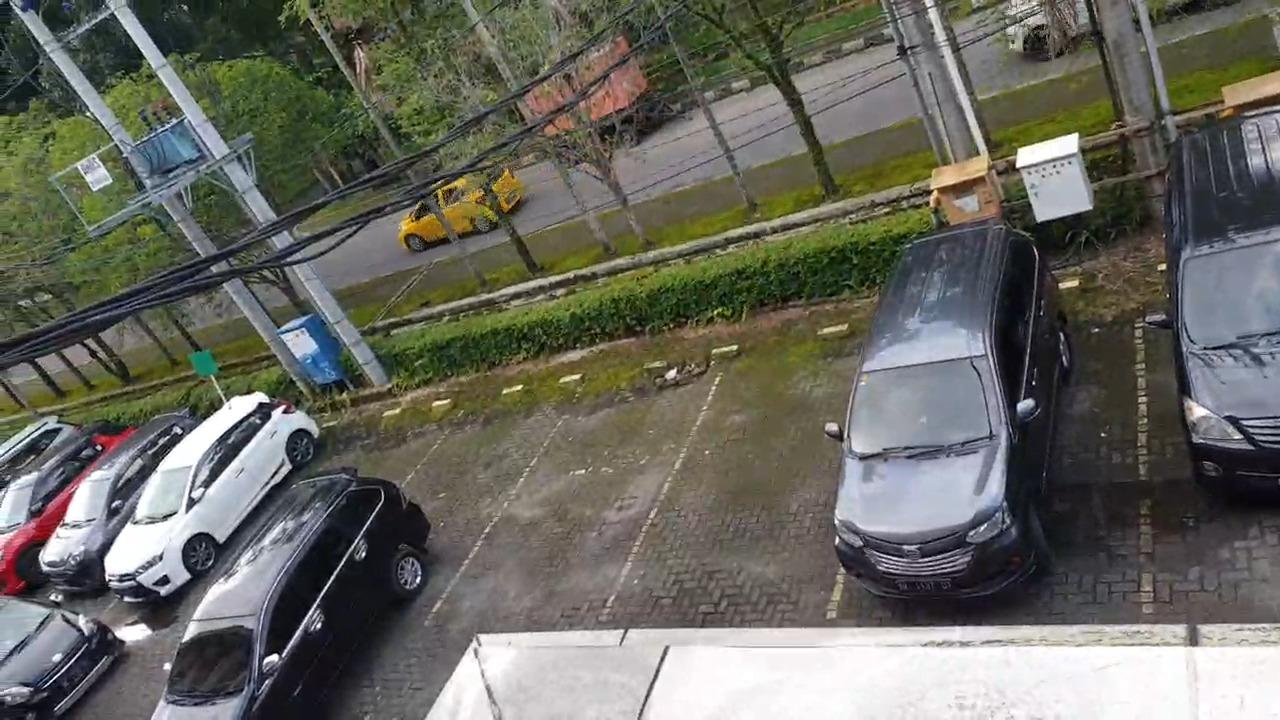empty: (652, 337, 840, 630), (487, 362, 657, 621), (382, 384, 512, 620)
occupied: (833, 288, 1145, 620)
